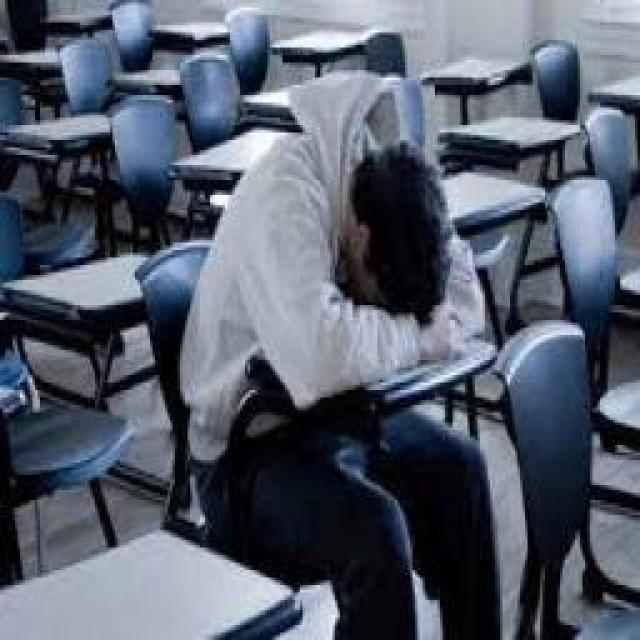sleep: (170, 78, 482, 372)
